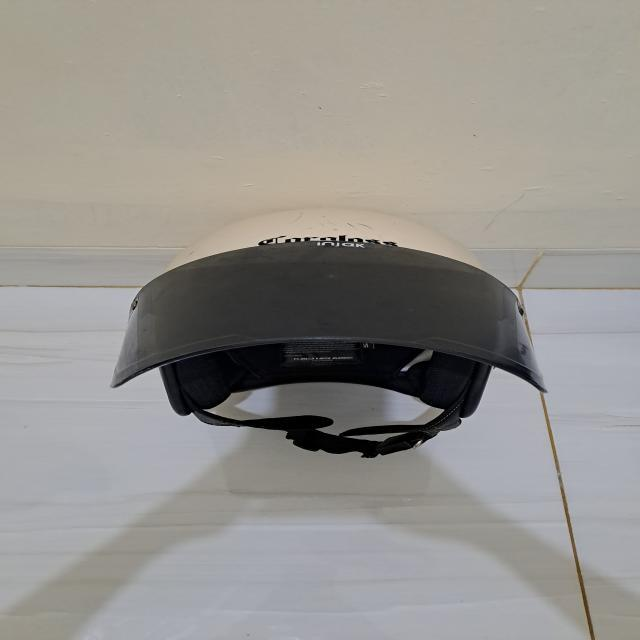Helm: (83, 200, 554, 460)
